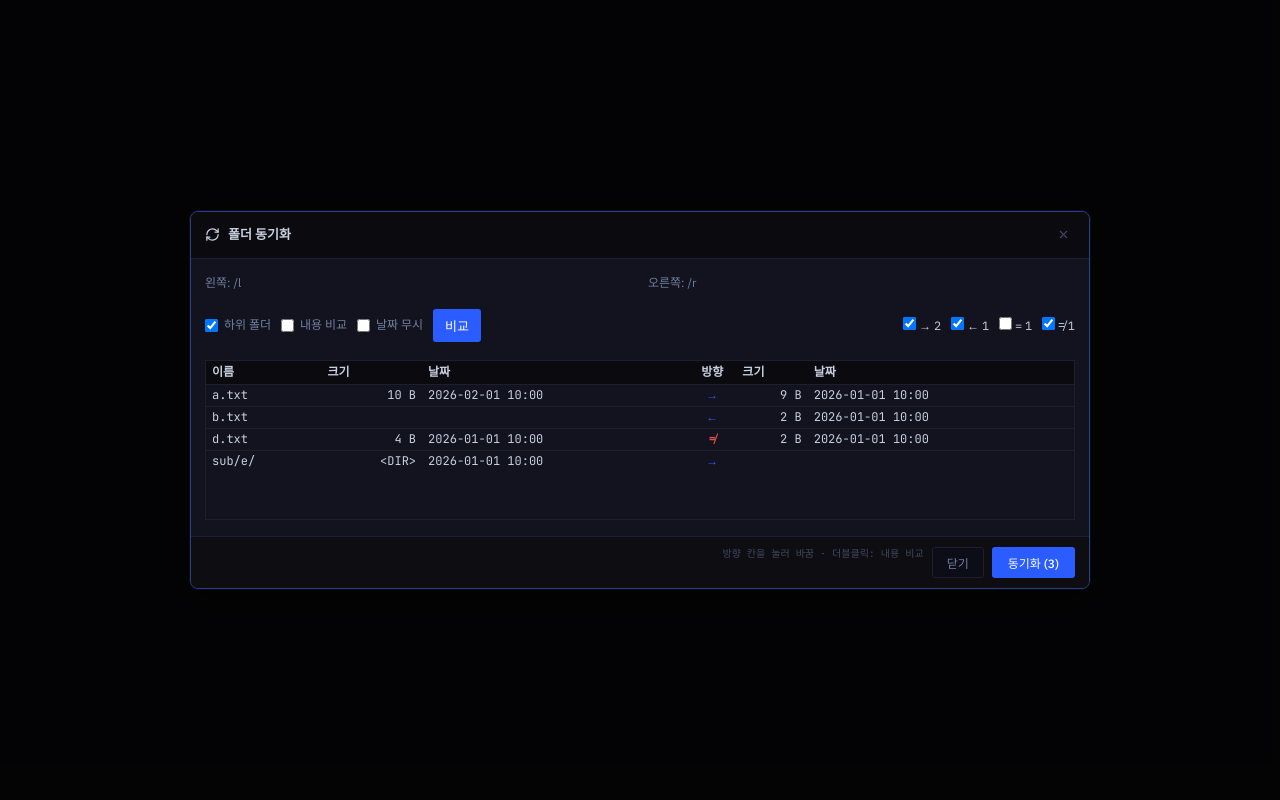
Test: 동기화 창 (SY) › SY-02: 보기 필터 — = 켜면 같은 항목도, → 끄면 왼쪽→오른쪽 항목 숨김
This screenshot has width=1280, height=800.
Click the checkbox named "같음 보기" at coordinates (1006, 324), box [999, 317, 1012, 330]
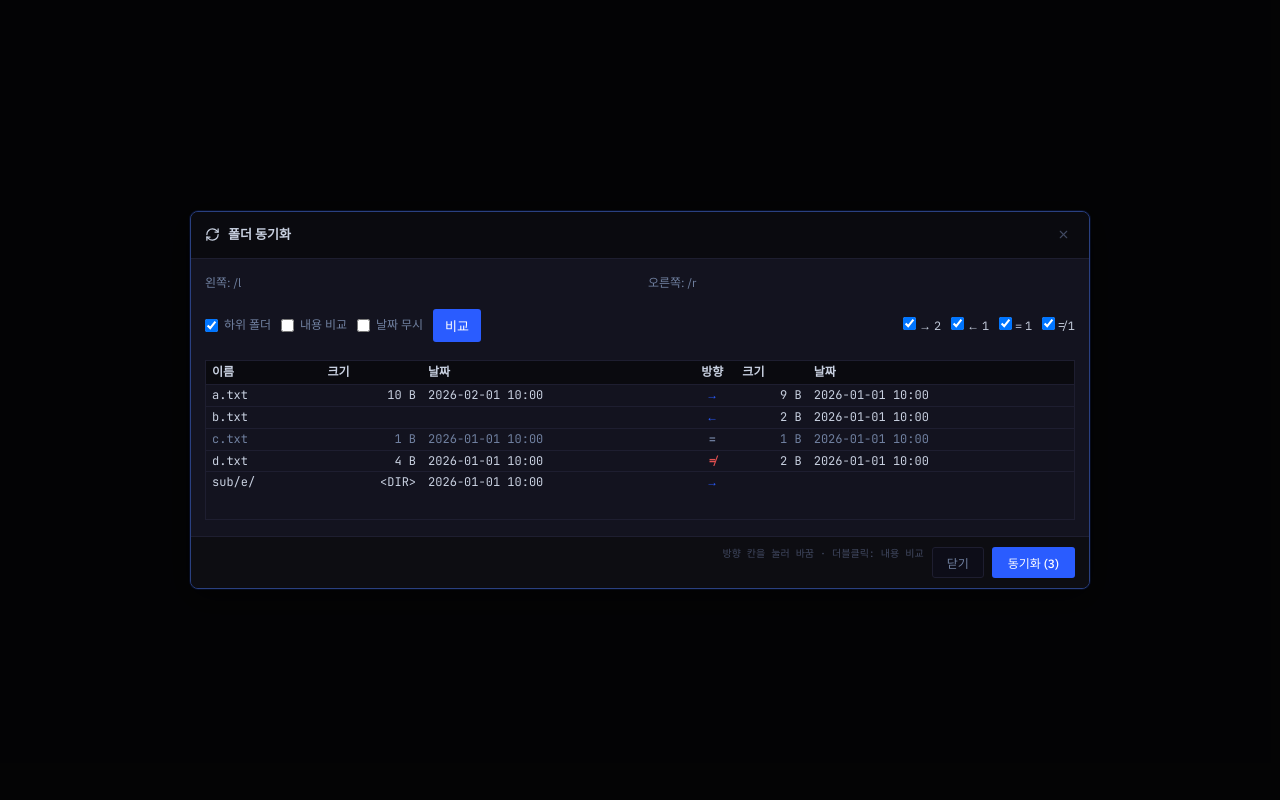
Click the checkbox named "→ 보기" at coordinates (910, 324), box [903, 317, 916, 330]
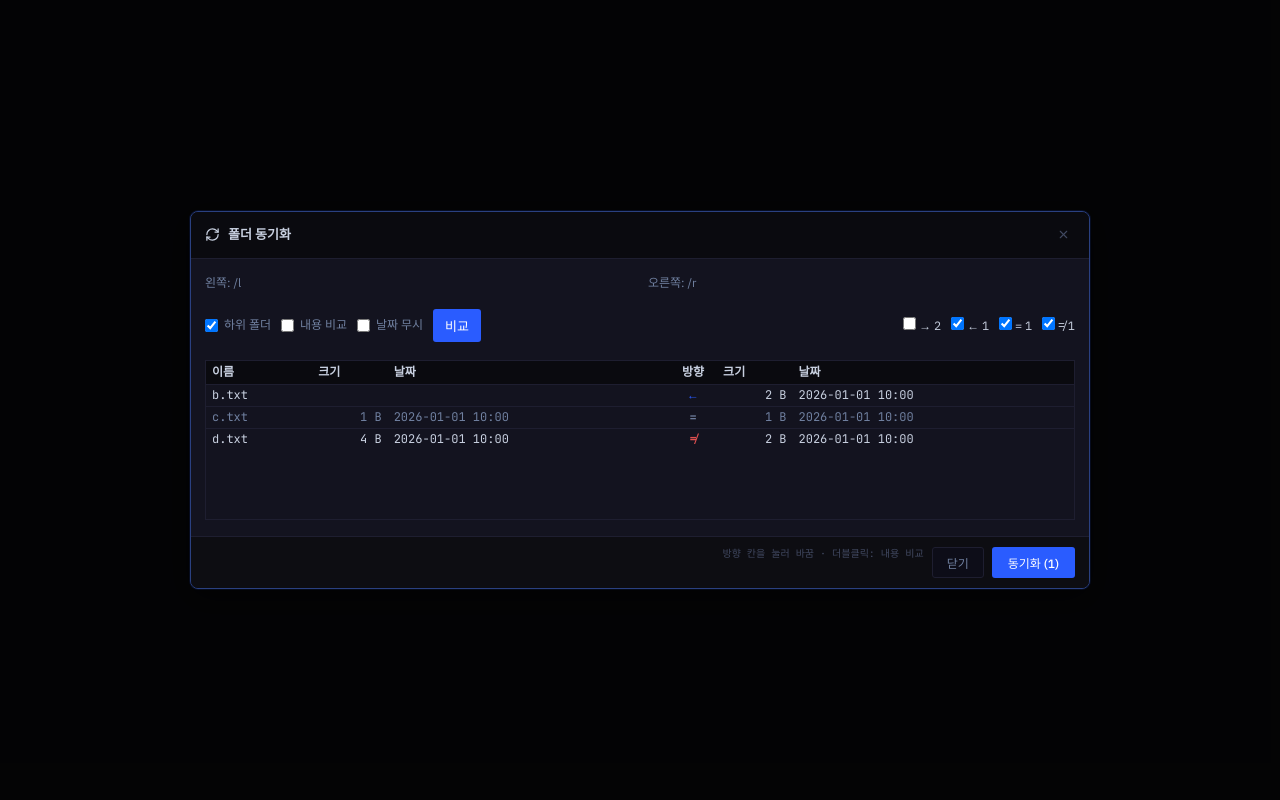
Check: the cell no longer shows "a.txt"
Check: the cell no longer shows "sub/e"
